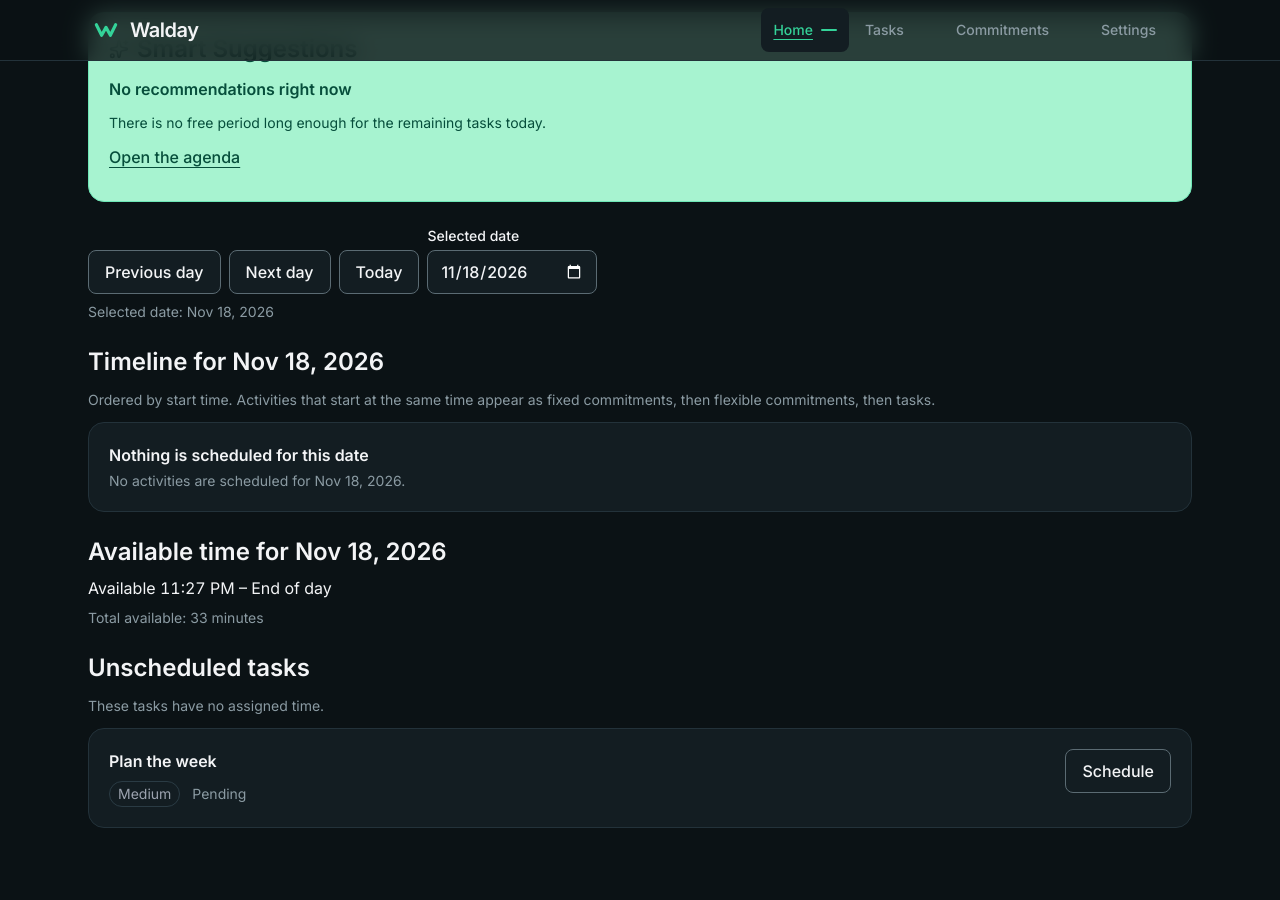
Test: explicit task scheduling › preserves the draft when the write is refused
(page scrolled)
Step 1. Click the button "Schedule" → x=1118, y=771, box [1066, 749, 1171, 793]
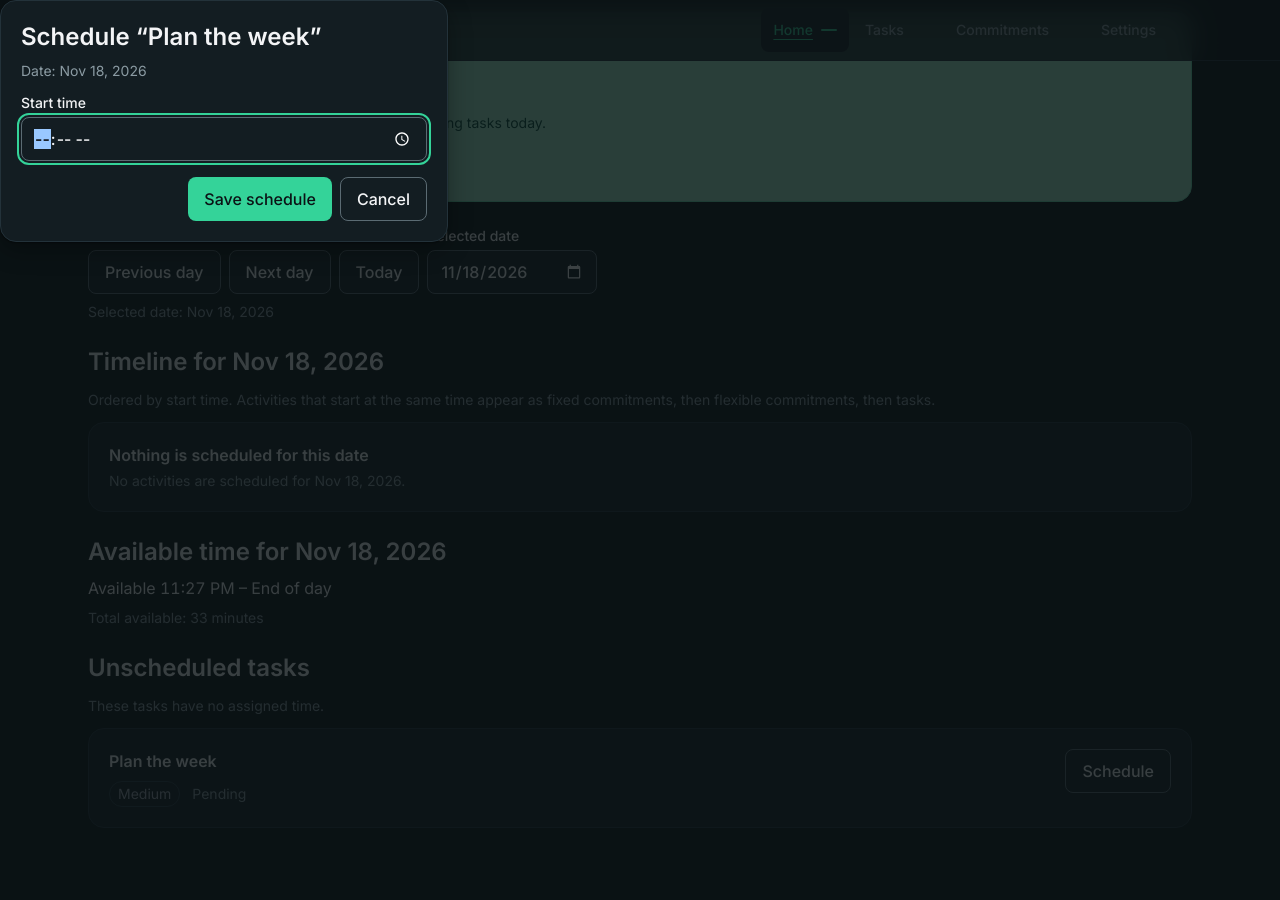
Step 2. Type "10:00" into the time field labelled "Start time" → x=224, y=139, box [21, 117, 427, 161]
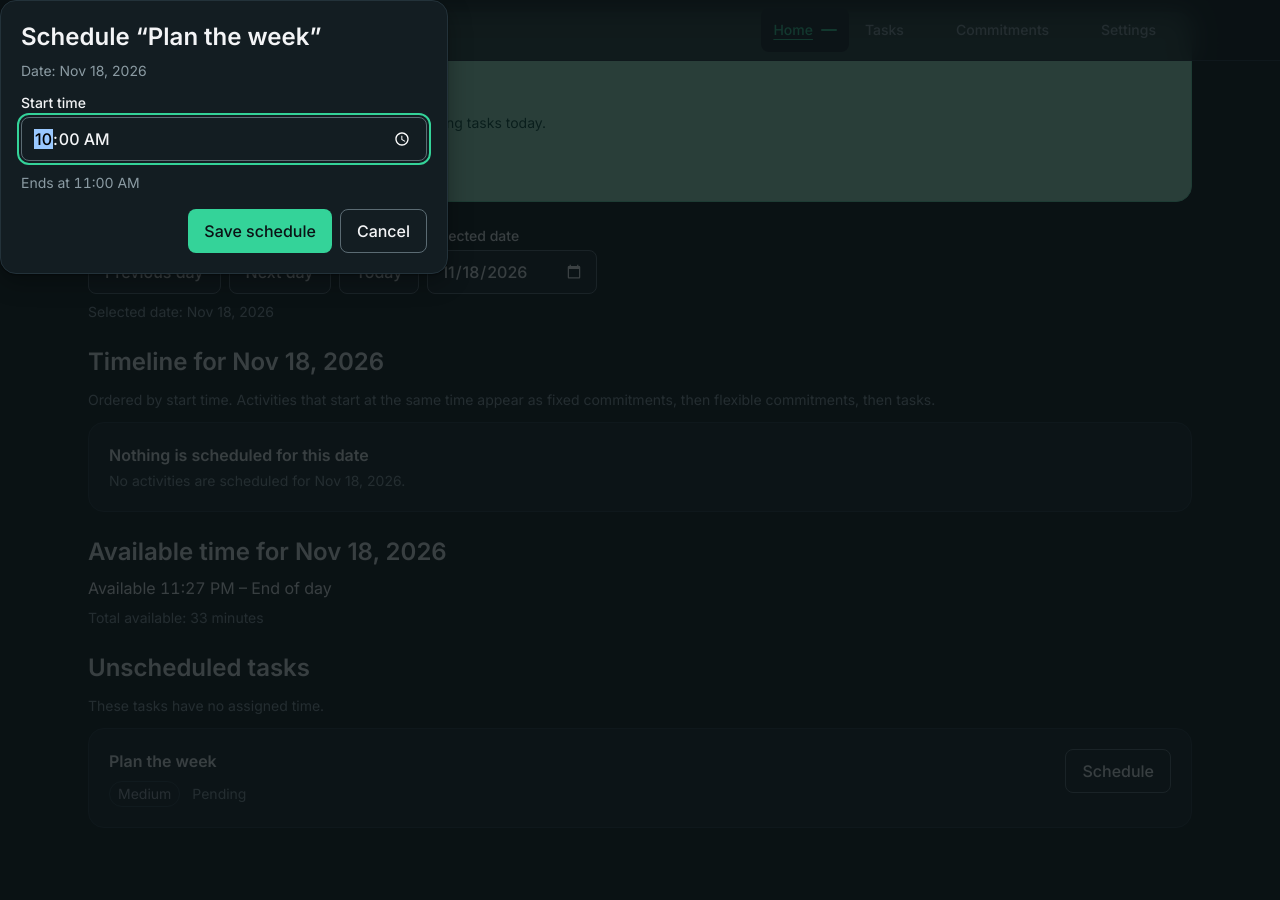
Step 3. Click the button "Save schedule" → x=260, y=231, box [188, 209, 332, 253]
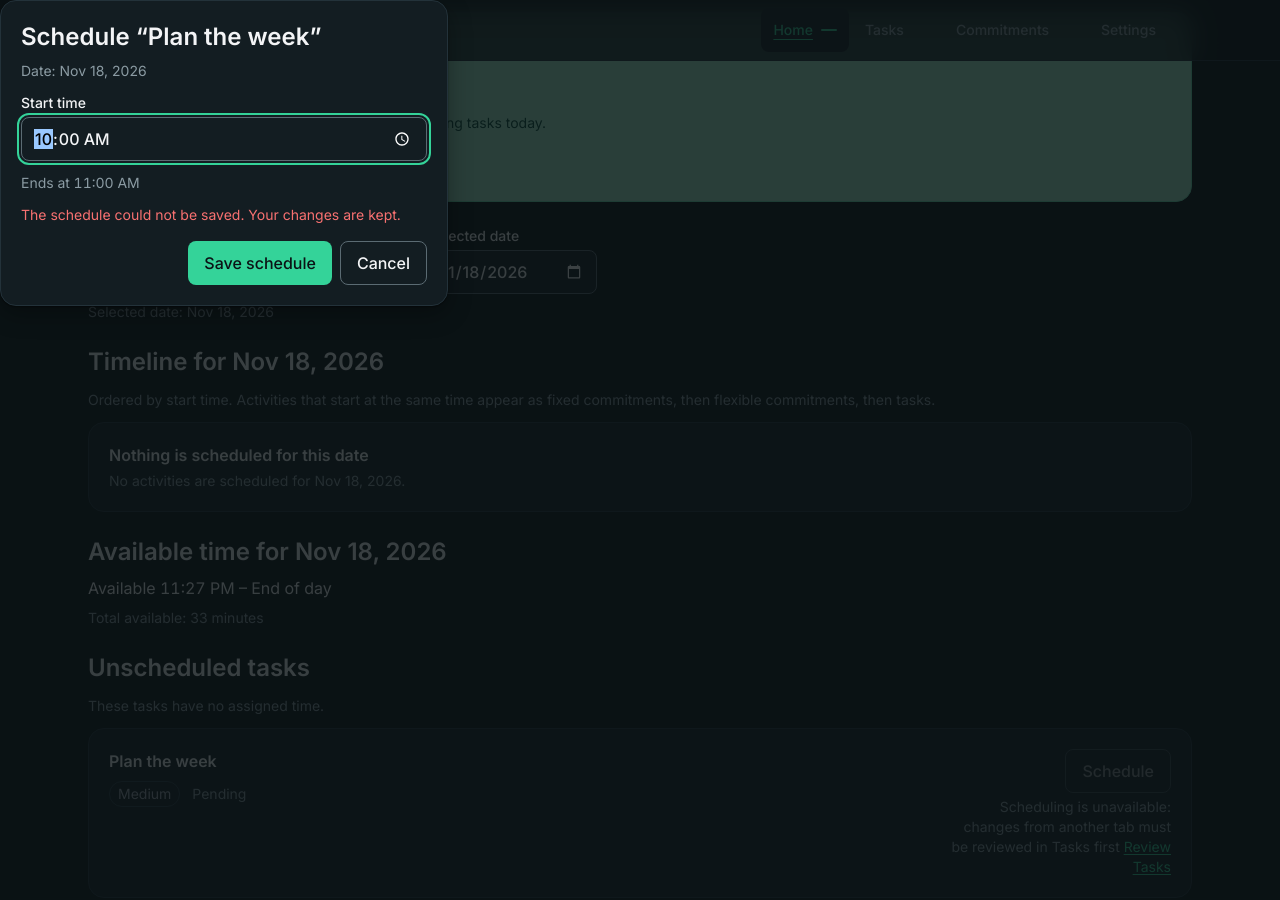
Result: the text "The schedule could not be saved. Your changes are kept." is shown at [21, 205, 427, 225]
